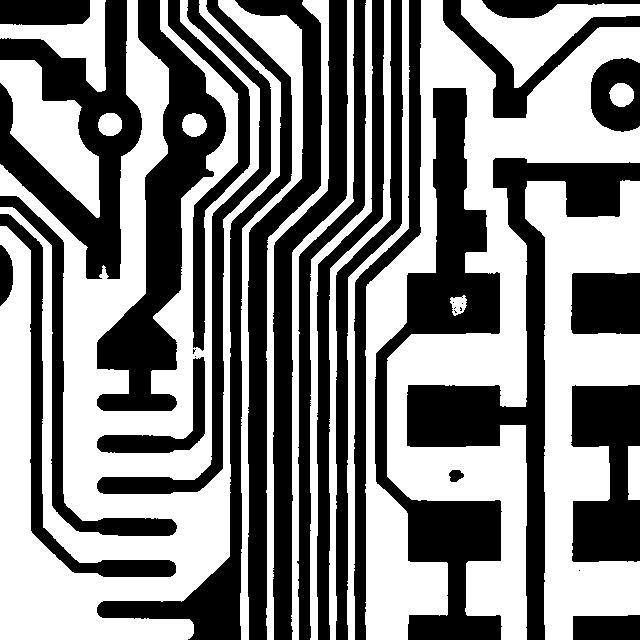copper: (439, 460, 473, 491)
mousebite: (89, 255, 118, 288)
open: (179, 337, 215, 368)
pin-hole: (440, 285, 476, 325)
spur: (188, 159, 223, 188)
